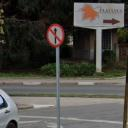NoSeguir: (46, 23, 65, 47)
